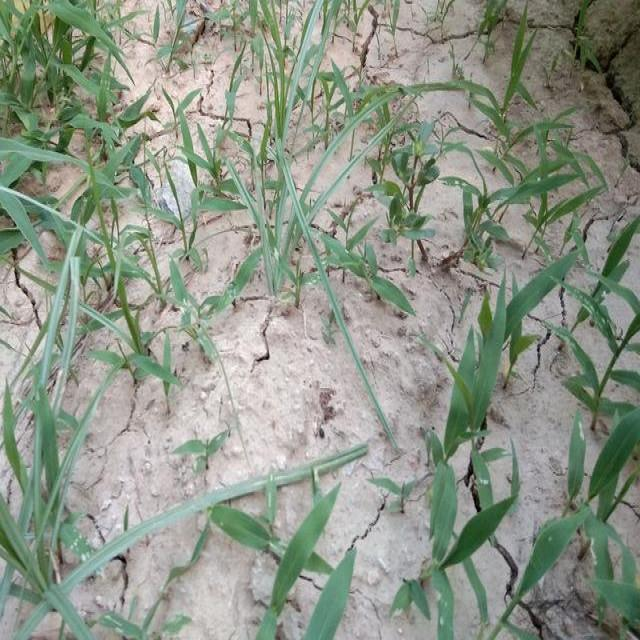weed: (238, 3, 587, 316), (1, 357, 360, 640), (393, 295, 640, 640), (11, 16, 173, 374), (450, 17, 606, 286)
